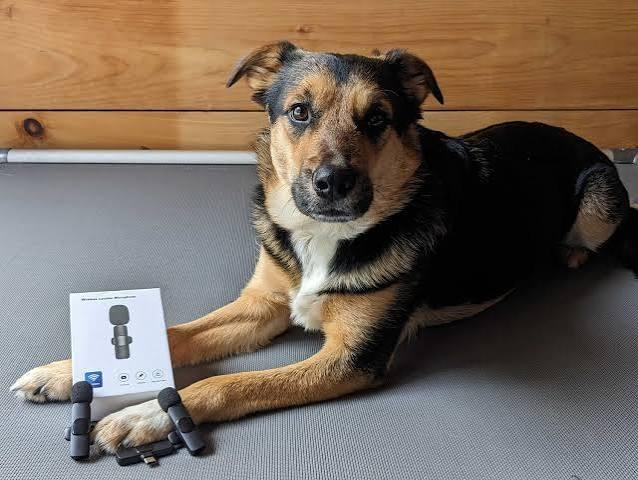adult_dog: (13, 42, 638, 456)
